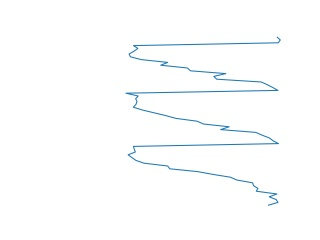distributaryMouthBar: (125, 35, 287, 208)
